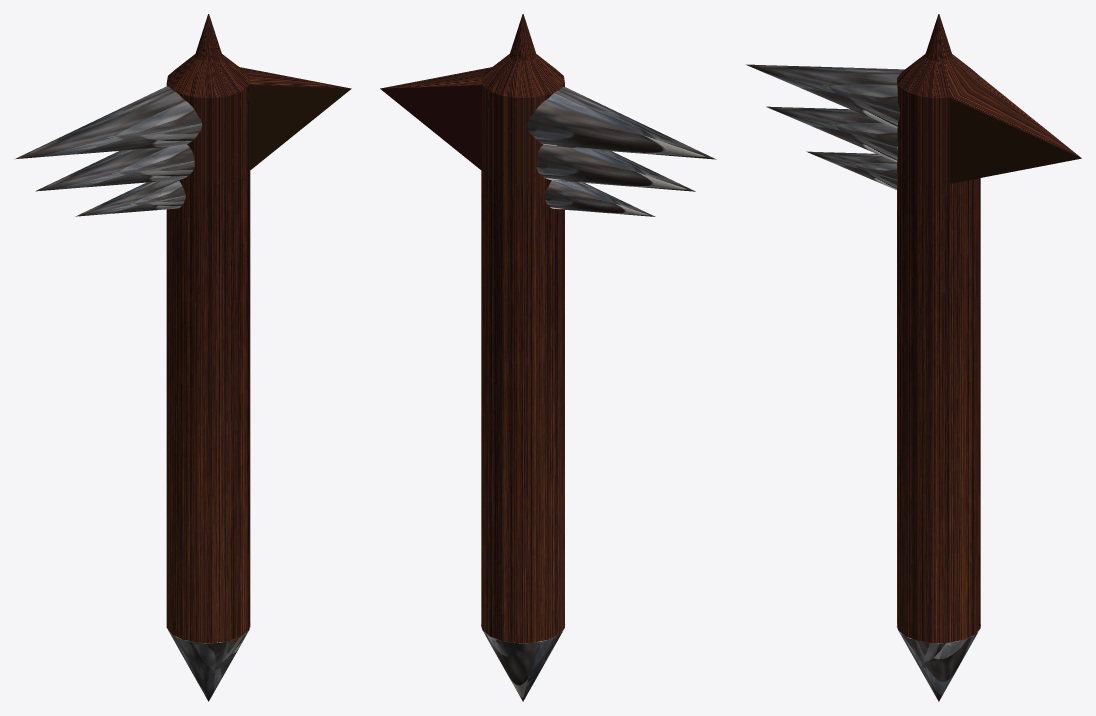
The model's file is Crystal Warhammer.fbx.
3 renders of one model, left to right at view 1: azimuth 30°, elevation 25°; view 2: azimuth 150°, elevation 25°; view 3: azimuth 330°, elevation 25°, orthographic.
Visible parts, largest first — view 1: Cylinder, Cone.002, Cone, Cone.009, Cone.001; view 2: Cylinder, Cone.002, Cone, Cone.009, Cone.001; view 3: Cylinder, Cone.002, Cone, Cone.009, Cone.001.
Part boxes in pixels (x1,y1,x2,y2): Cylinder: (166,14,351,643); Cone.002: (14,86,202,159); Cone: (35,144,194,191); Cone.009: (167,624,250,701); Cone.001: (75,180,185,216); Cylinder: (380,14,564,643); Cone.002: (527,87,716,159); Cone: (536,144,695,191); Cone.009: (481,624,565,701); Cone.001: (544,180,655,216); Cylinder: (897,14,1081,643); Cone.002: (746,64,904,128); Cone: (766,106,897,162); Cone.009: (896,624,980,701); Cone.001: (806,151,897,189).
Bounding box in the file's own units: 461 × 899 × 100.
